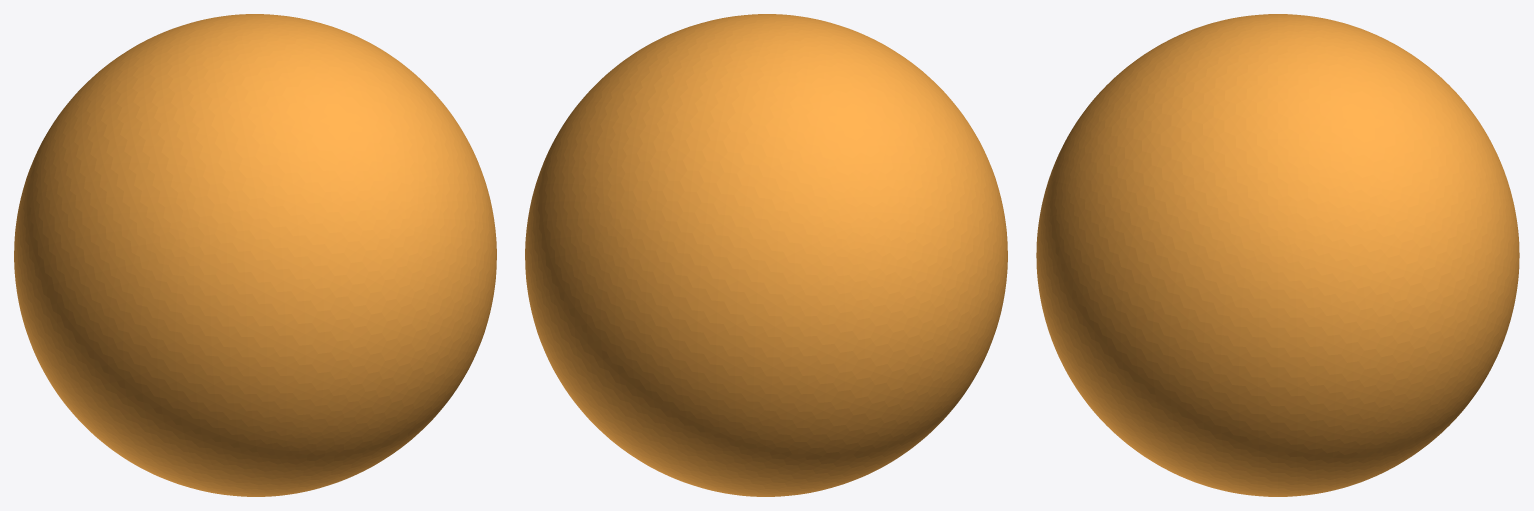
File: sun.glb
3 renders of one model, left to right at view 1: azimuth 30°, elevation 25°; view 2: azimuth 150°, elevation 25°; view 3: azimuth 270°, elevation 25°, orthographic.
Visible parts, largest first — view 1: Icosphere_0; view 2: Icosphere_0; view 3: Icosphere_0.
Boxes of the visible parts, bbox=[...] form: Icosphere_0: bbox=[14, 14, 496, 496]; Icosphere_0: bbox=[525, 14, 1007, 496]; Icosphere_0: bbox=[1036, 14, 1519, 496].
Size of the model in its own units: 1.99 by 1.99 by 1.99.
